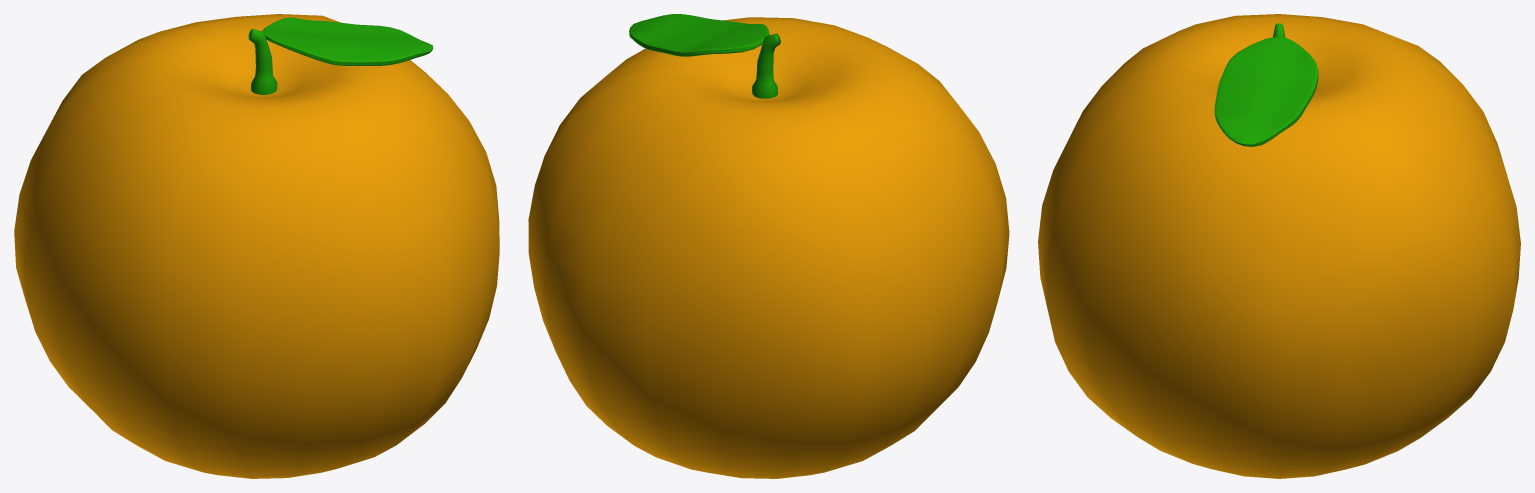
The model's file is Orange_fbx.fbx.
3 views of the same model, side by side, from view 1: azimuth 30°, elevation 25°; view 2: azimuth 150°, elevation 25°; view 3: azimuth 270°, elevation 25° (orthographic).
Parts seen in each view (by area): view 1: pCube2; view 2: pCube2; view 3: pCube2.
Part boxes in pixels (box(x1,y1,x2,y2)): pCube2: box(14, 14, 499, 478); pCube2: box(528, 14, 1009, 478); pCube2: box(1038, 14, 1520, 478).
Bounding box in the file's own units: 5.47 × 5.13 × 5.47.
